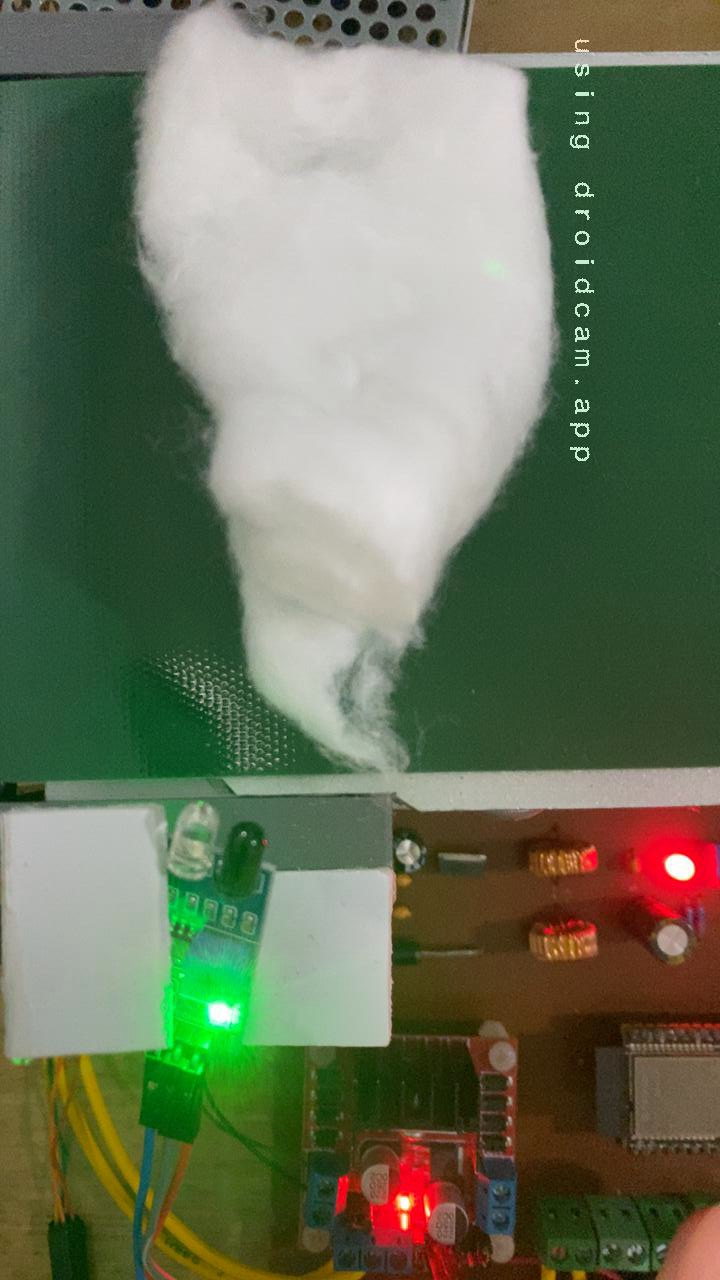cotton: (127, 75, 720, 803)
